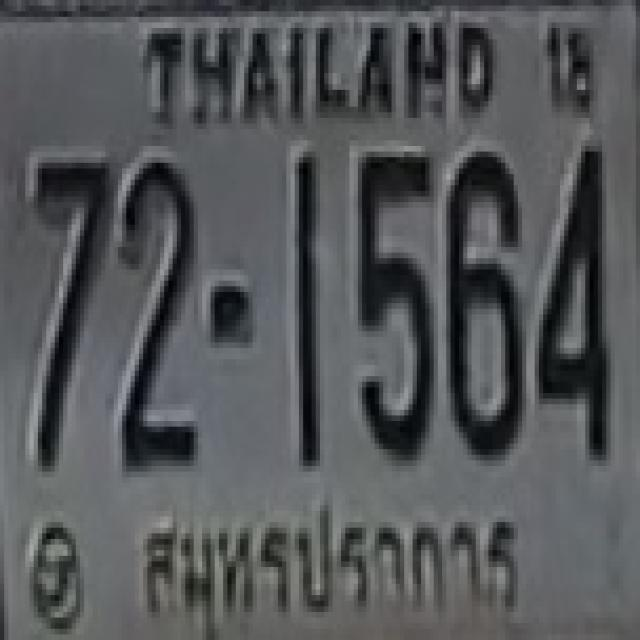1: (293, 154, 328, 468)
2: (118, 157, 213, 472)
4: (535, 140, 606, 455)
5: (352, 148, 432, 458)
6: (442, 146, 518, 449)
7: (32, 157, 110, 481)
SPK: (129, 476, 529, 632)
